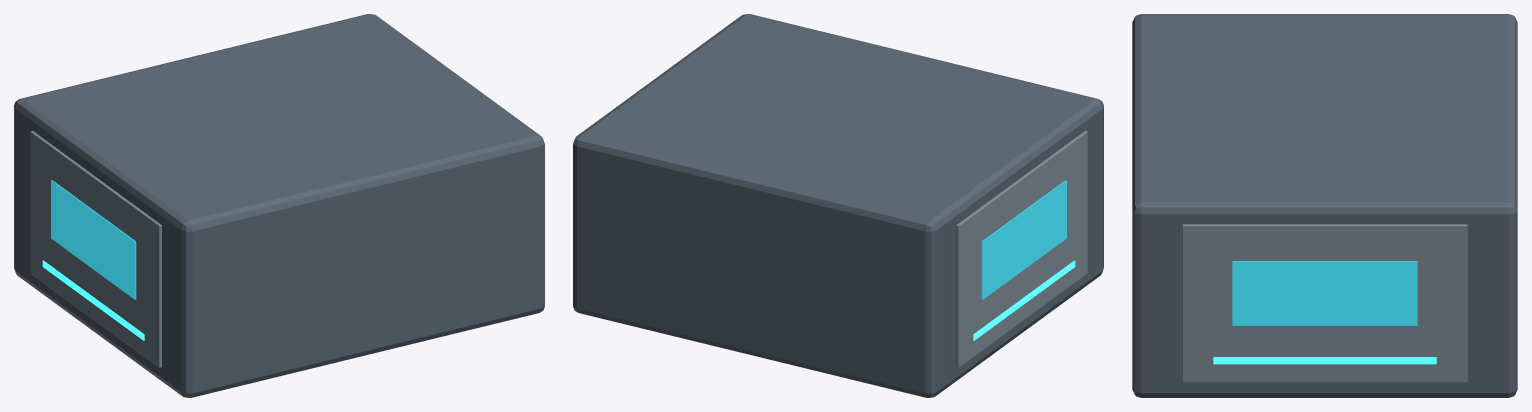
File: ready-terminal.glb
3 views of the same model, side by side, from view 1: azimuth 30°, elevation 25°; view 2: azimuth 150°, elevation 25°; view 3: azimuth 270°, elevation 25° (orthographic). The views are drawn at different scales.
Parts seen in each view (by area): view 1: Visual_ReadyTerminal_Shell, Visual_Merged_ZA_ReadyTerminal_Root_Neutral_Steel, Visual_Merged_ZA_ReadyTerminal_Root_Screen_Dark, Visual_Merged_ZA_ReadyTerminal_Root_Zero_Cyan_Emissive; view 2: Visual_ReadyTerminal_Shell, Visual_Merged_ZA_ReadyTerminal_Root_Neutral_Steel, Visual_Merged_ZA_ReadyTerminal_Root_Screen_Dark, Visual_Merged_ZA_ReadyTerminal_Root_Zero_Cyan_Emissive; view 3: Visual_ReadyTerminal_Shell, Visual_Merged_ZA_ReadyTerminal_Root_Neutral_Steel, Visual_Merged_ZA_ReadyTerminal_Root_Screen_Dark, Visual_Merged_ZA_ReadyTerminal_Root_Zero_Cyan_Emissive.
Boxes of the visible parts, x1,y1,x2,y2 form: Visual_ReadyTerminal_Shell: (14,14,544,397); Visual_Merged_ZA_ReadyTerminal_Root_Neutral_Steel: (30,131,161,367); Visual_Merged_ZA_ReadyTerminal_Root_Screen_Dark: (51,180,136,299); Visual_Merged_ZA_ReadyTerminal_Root_Zero_Cyan_Emissive: (42,260,144,340); Visual_ReadyTerminal_Shell: (573,14,1103,397); Visual_Merged_ZA_ReadyTerminal_Root_Neutral_Steel: (956,131,1087,367); Visual_Merged_ZA_ReadyTerminal_Root_Screen_Dark: (981,180,1066,299); Visual_Merged_ZA_ReadyTerminal_Root_Zero_Cyan_Emissive: (973,260,1075,340); Visual_ReadyTerminal_Shell: (1132,14,1517,397); Visual_Merged_ZA_ReadyTerminal_Root_Neutral_Steel: (1182,224,1467,382); Visual_Merged_ZA_ReadyTerminal_Root_Screen_Dark: (1232,261,1417,325); Visual_Merged_ZA_ReadyTerminal_Root_Zero_Cyan_Emissive: (1213,357,1436,364).
Size of the model in its own units: 6.17 by 2.8 by 5.
